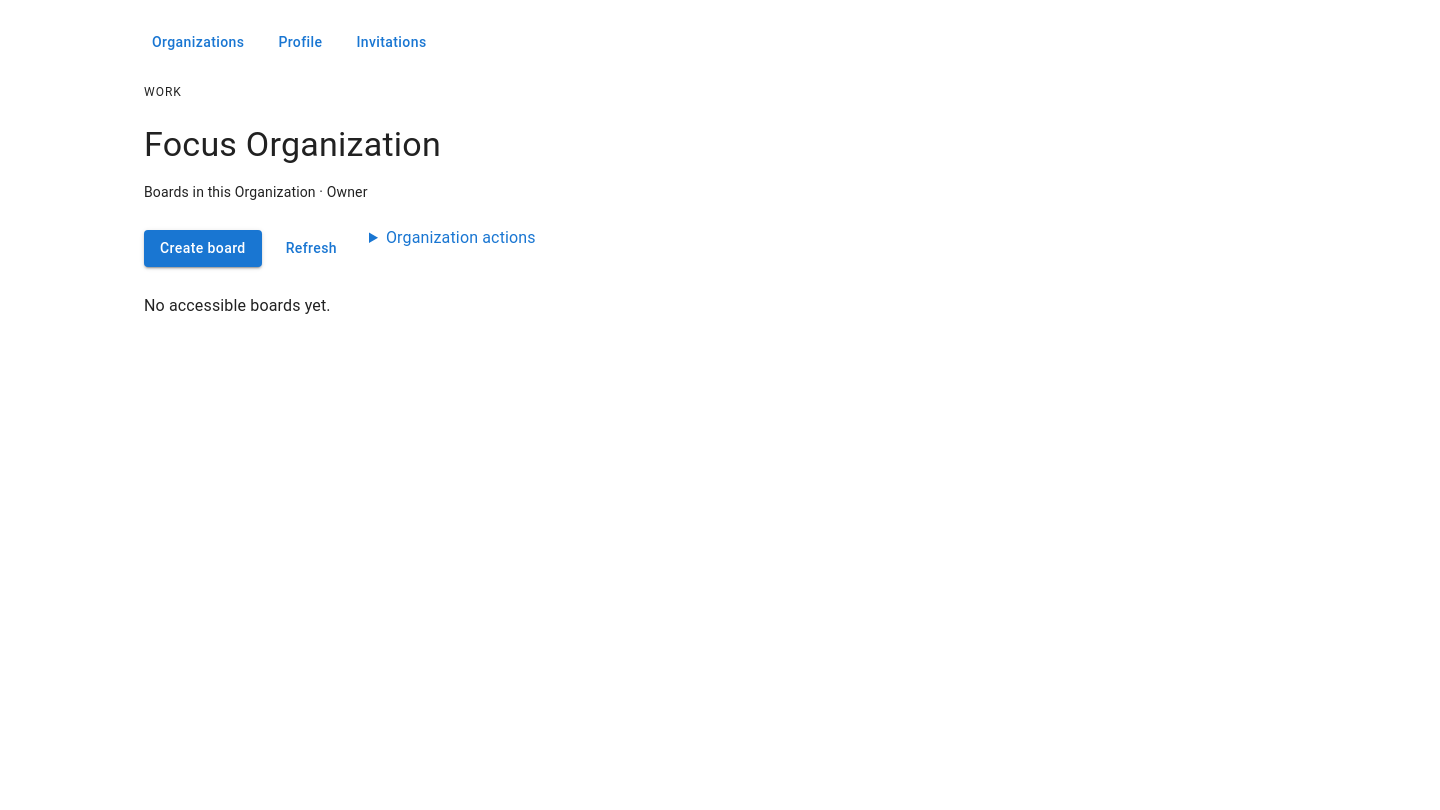
UXA-06: Cancel after access recovery returns focus to the current Board launcher
Click the button "Create board" at [203, 248], box [144,230,262,267]
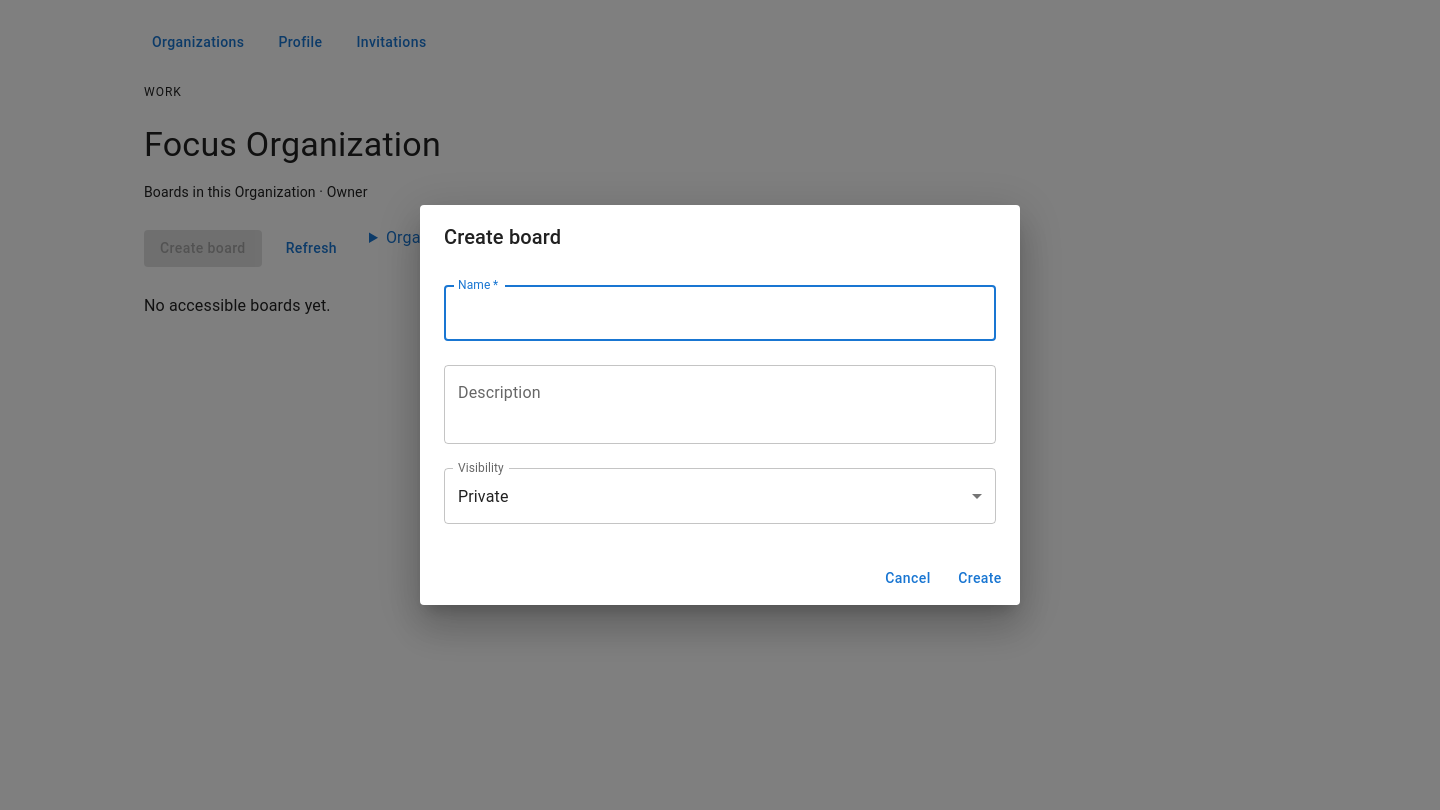
Type "Unsent focus draft" into the field labelled "Name *" at [720, 313], box [444,285,996,341]
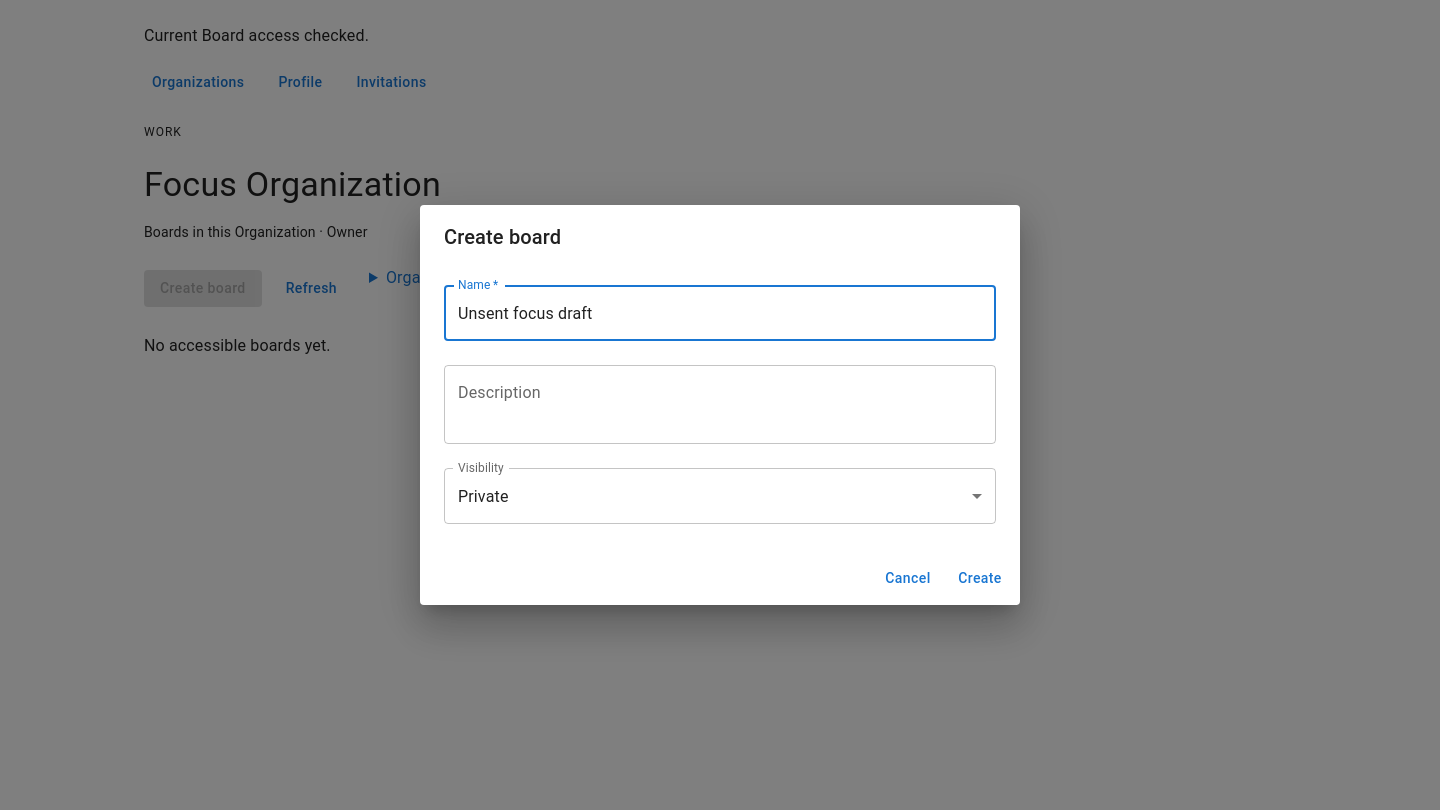
Click the button "Cancel" at [908, 579], box [876,560,940,597]
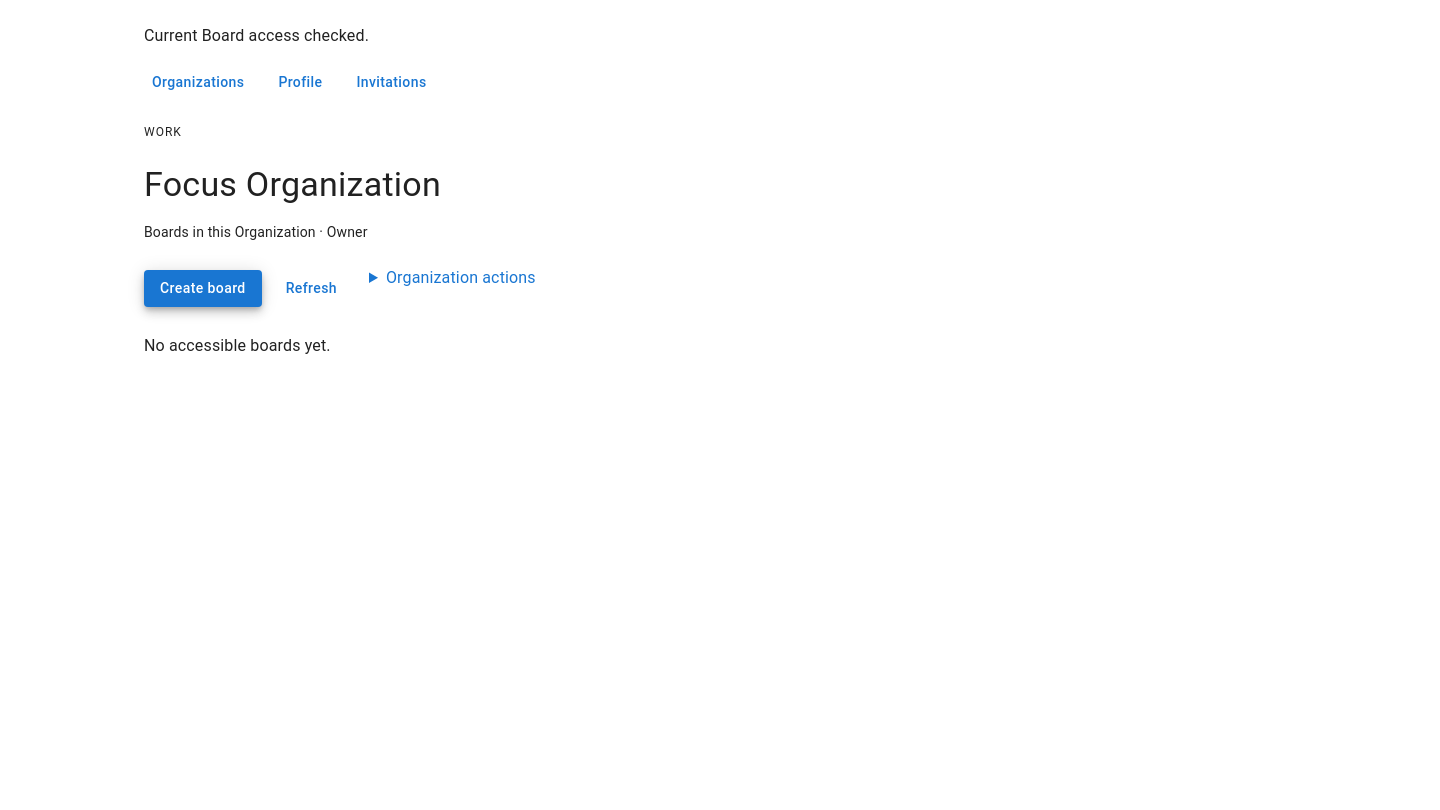
Check: the dialog is gone
